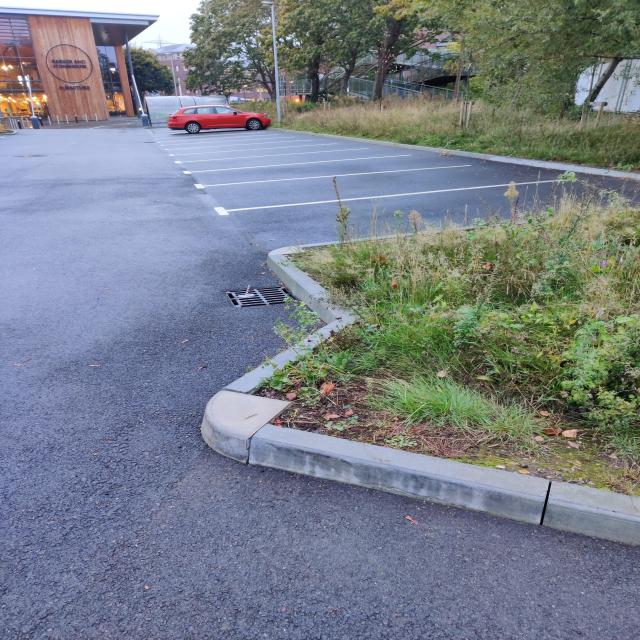litter: (243, 283, 253, 296)
